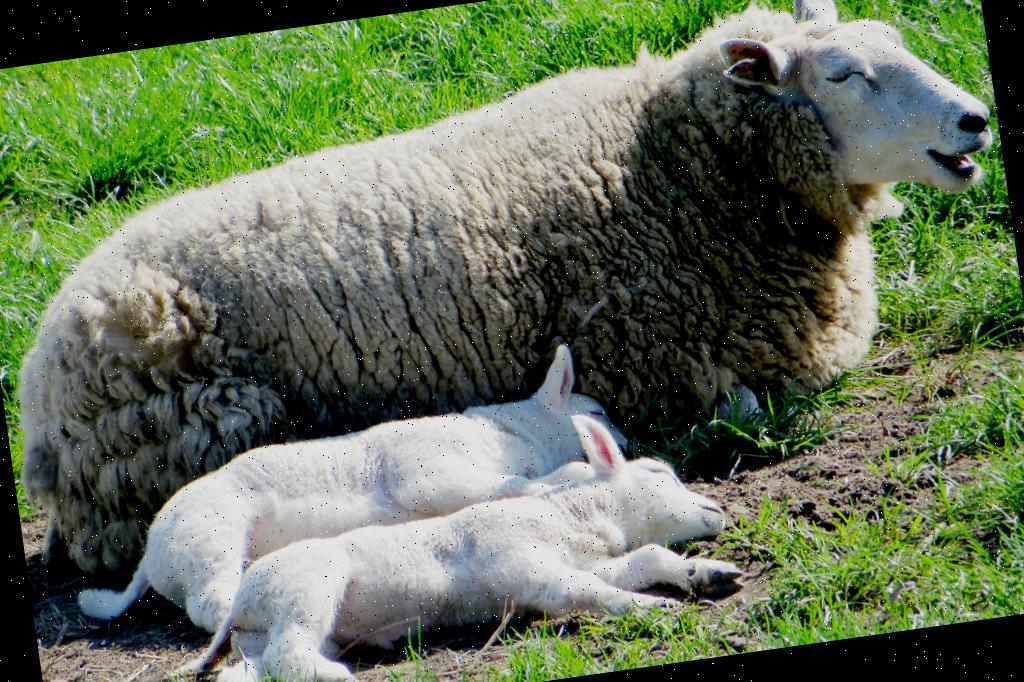Sheep: (0, 0, 1024, 592), (49, 337, 647, 651), (146, 394, 752, 682)
